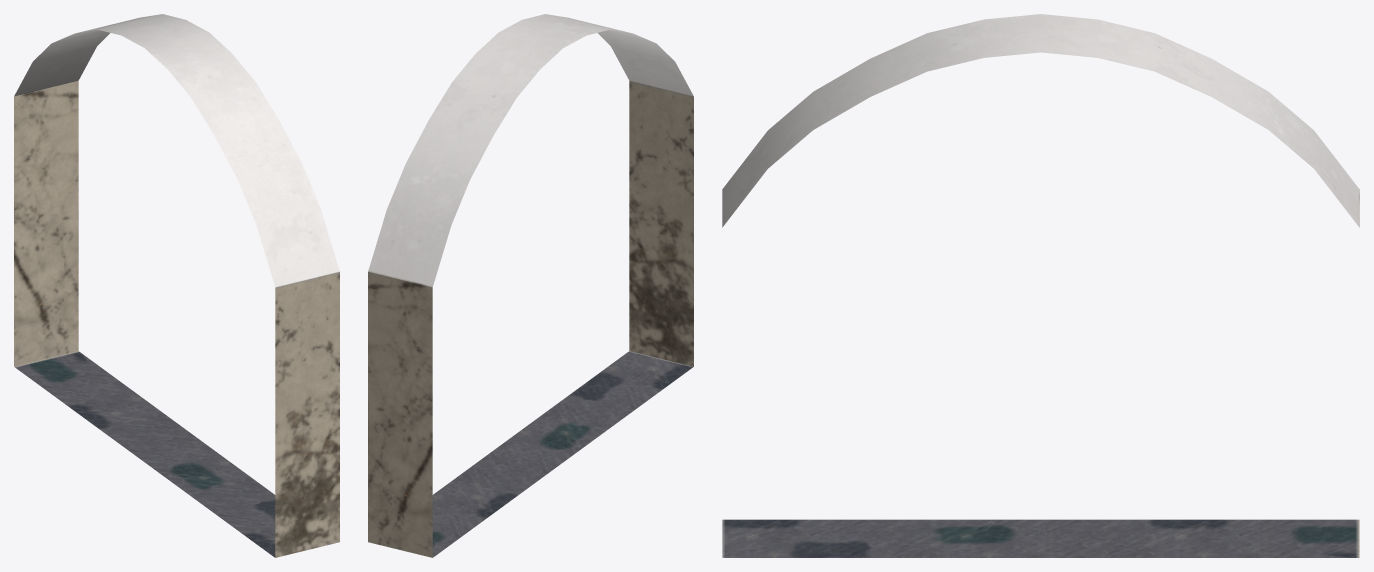
File: interchange walls straight 1m.fbx
3 views of the same model, side by side, from view 1: azimuth 30°, elevation 25°; view 2: azimuth 150°, elevation 25°; view 3: azimuth 270°, elevation 25° (orthographic). The views are drawn at different scales.
Visible parts, largest first — view 1: walls straight 1m_low; view 2: walls straight 1m_low; view 3: walls straight 1m_low.
Part boxes in pixels (x1,y1,x2,y2): walls straight 1m_low: (14, 14, 339, 557); walls straight 1m_low: (368, 14, 693, 557); walls straight 1m_low: (722, 14, 1359, 557).
Bounding box in the file's own units: 700 × 100 × 613.
